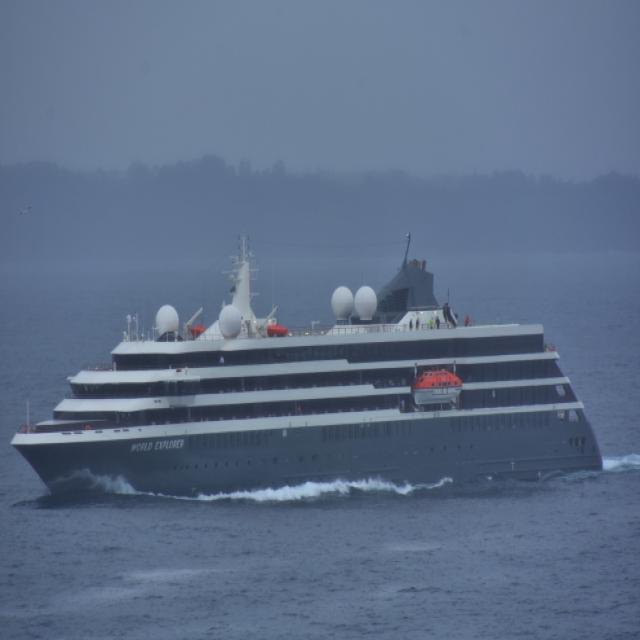cruises: (8, 220, 611, 508)
